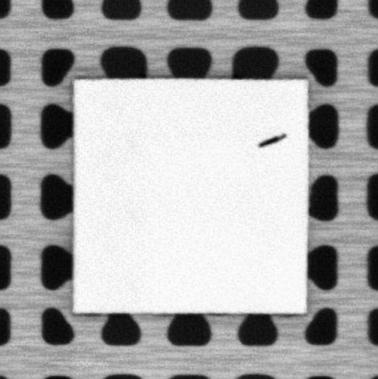DIE_INK: (255, 132, 288, 150)
